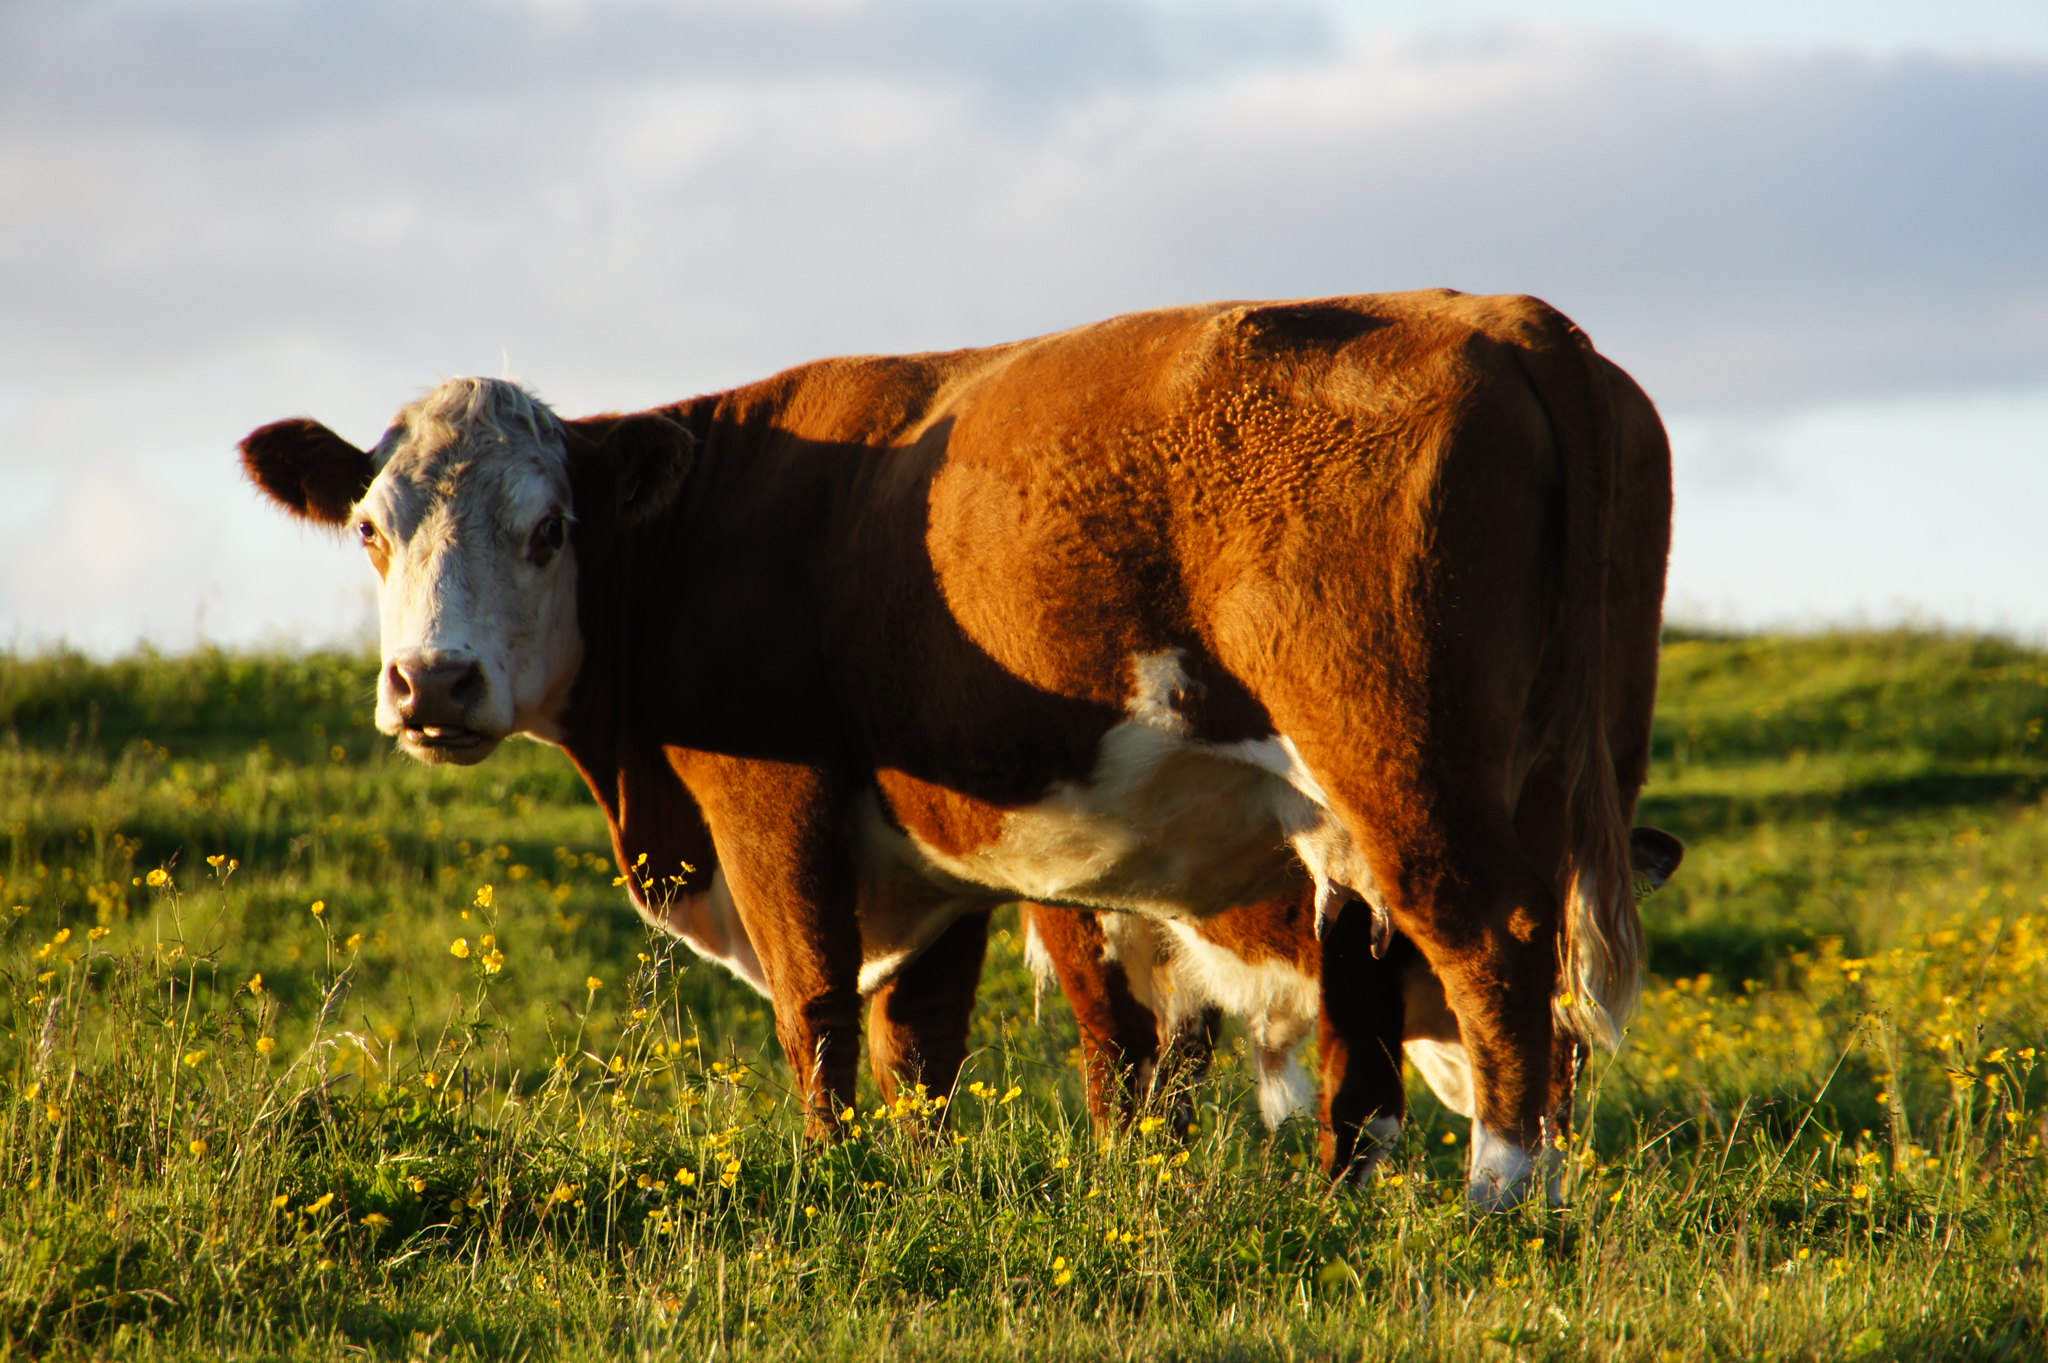cow: (251, 295, 1729, 1240)
